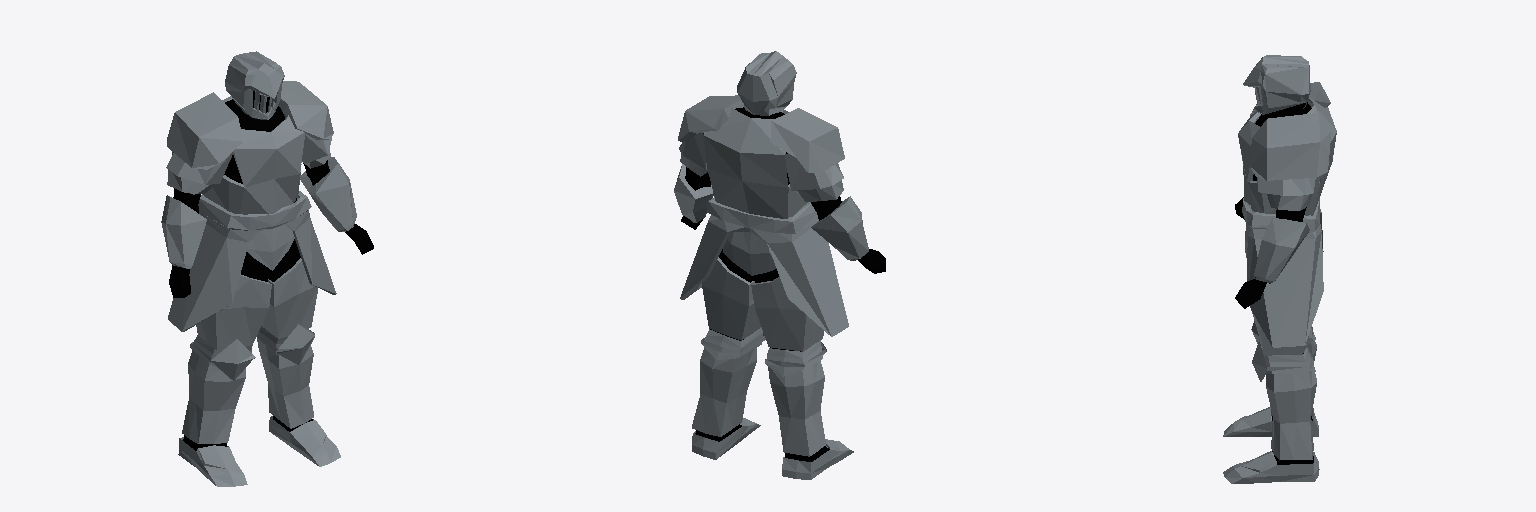
Rendered from Aster-DESKTOP-MJV2D3S.obj.
3 renders of one model, left to right at view 1: azimuth 30°, elevation 25°; view 2: azimuth 150°, elevation 25°; view 3: azimuth 270°, elevation 25°, orthographic.
Parts seen in each view (by area): view 1: Aster_Cube.016; view 2: Aster_Cube.016; view 3: Aster_Cube.016.
Boxes of the visible parts, <box> form: Aster_Cube.016: <box>161,51,373,486</box>; Aster_Cube.016: <box>674,51,885,479</box>; Aster_Cube.016: <box>1223,55,1336,483</box>.
Bounding box in the file's own units: 1.2 × 2.28 × 0.5907.